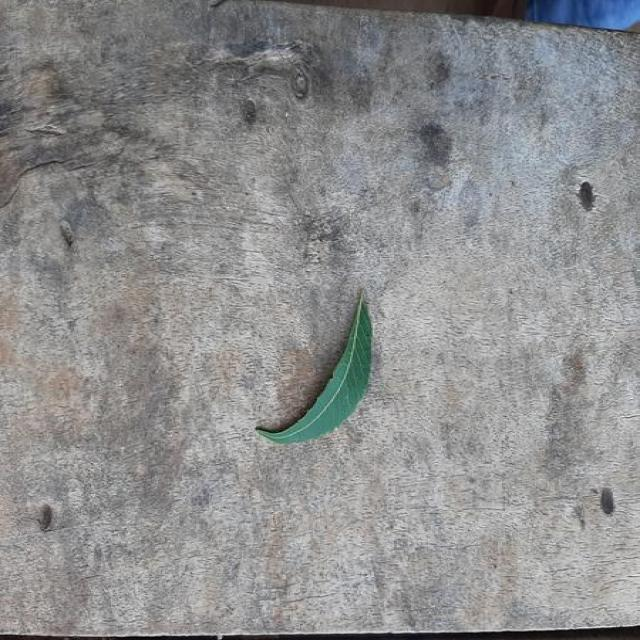neem: (257, 294, 372, 444)
